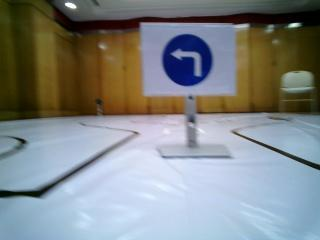left: (152, 21, 232, 96)
